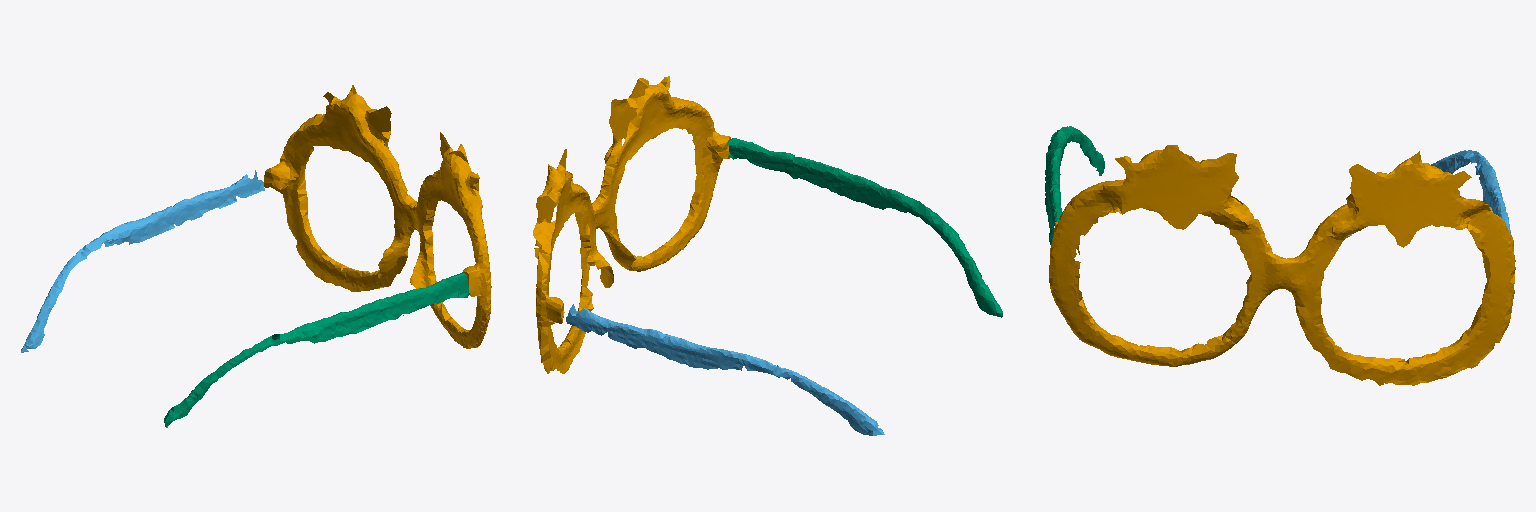
URDF robot description (eyeglasses2):
<?xml version="1.0" ?>
<robot name="eyeglasses2">
	<link name="base_link">
		<visual>
			<origin rpy="0 0 0" xyz="0.0 0.0 0.0"/>
			<geometry>
				<mesh filename="package://part_meshes/base_link.obj" scale="1 1 1"/>
			</geometry>
		</visual>
		<inertial>
			<origin rpy="0 0 0" xyz="0 0 0"/>
			<mass value="0.0"/>
			<inertia ixx="0.0" ixy="0.0" ixz="0.0" iyy="0.0" iyz="0.0" izz="0.0"/>
		</inertial>
	</link>
	<link name="link1">
		<visual>
			<origin rpy="0 0 0" xyz="0.004003 0.023387 -0.060547"/>
			<geometry>
				<mesh filename="package://part_meshes/link1.obj" scale="1 1 1"/>
			</geometry>
		</visual>
		<inertial>
			<origin rpy="0 0 0" xyz="0 0 0"/>
			<mass value="0.0"/>
			<inertia ixx="0.0" ixy="0.0" ixz="0.0" iyy="0.0" iyz="0.0" izz="0.0"/>
		</inertial>
	</link>
	<link name="link2">
		<visual>
			<origin rpy="0 0 0" xyz="-0.00533 0.016734 0.060273"/>
			<geometry>
				<mesh filename="package://part_meshes/link2.obj" scale="1 1 1"/>
			</geometry>
		</visual>
		<inertial>
			<origin rpy="0 0 0" xyz="0 0 0"/>
			<mass value="0.0"/>
			<inertia ixx="0.0" ixy="0.0" ixz="0.0" iyy="0.0" iyz="0.0" izz="0.0"/>
		</inertial>
	</link>
	<joint name="joint_base_link-link1" type="revolute">
		<parent link="base_link"/>
		<child link="link1"/>
		<origin xyz="-0.004003 -0.023387 0.060547" rpy="0 0 0"/>
		<axis xyz="1.0 0.0 0.0"/>
		<limit effort="1.0" lower="-0.01" upper="1.5" velocity="1000"/>
	</joint>
	<joint name="joint_base_link-link2" type="revolute">
		<parent link="base_link"/>
		<child link="link2"/>
		<origin xyz="0.00533 -0.016734 -0.060273" rpy="0 0 0"/>
		<axis xyz="1.0 0.0 0.0"/>
		<limit effort="1.0" lower="-1.5" upper="0.01" velocity="1000"/>
	</joint>
</robot>

--- Render facts (derived) ---
Views: 3 orthographic renders of the robot side by side, from view 1: azimuth 30°, elevation 25°; view 2: azimuth 150°, elevation 25°; view 3: azimuth 270°, elevation 25°.
Robot: eyeglasses2 — 3 links, 2 joints (2 revolute); root link base_link; default pose: every joint at zero.
Visible links, largest first — view 1: base_link, link2, link1; view 2: base_link, link2, link1; view 3: base_link, link2, link1.
Boxes of the visible links, x1,y1,x2,y2 form: base_link: [264, 85, 491, 348]; link2: [164, 272, 468, 427]; link1: [21, 170, 264, 352]; base_link: [533, 76, 730, 373]; link2: [728, 138, 1002, 317]; link1: [566, 304, 884, 435]; base_link: [1049, 145, 1515, 385]; link2: [1045, 126, 1104, 244]; link1: [1431, 150, 1510, 232].
Size in the robot's own frame: 0.1356 by 0.1287 by 0.0763 metres.
Meshes: 3 distinct files referenced, 3 mesh visuals loaded (3 OBJ).